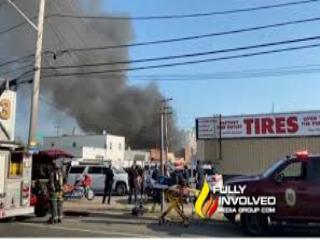smoke: (13, 9, 184, 151)
